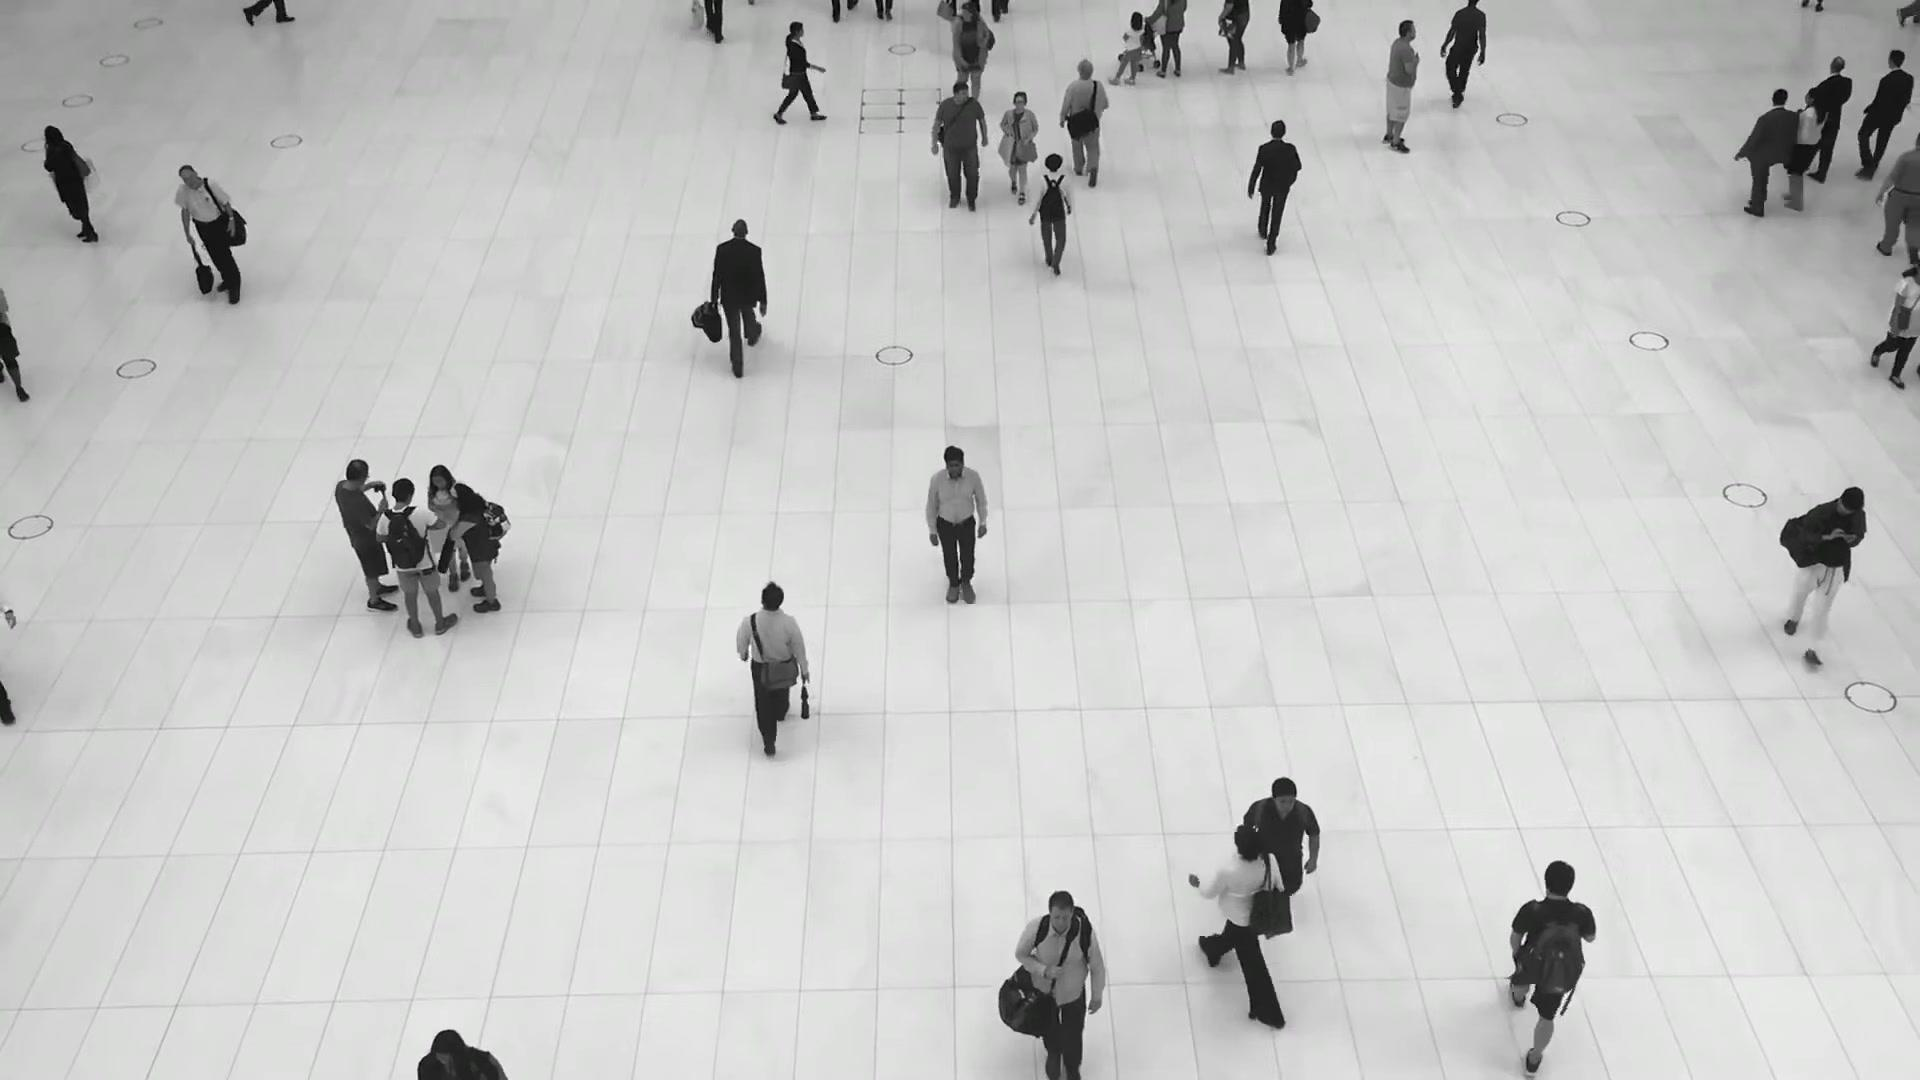person: (1506, 856, 1597, 1072), (1014, 890, 1108, 1080), (1189, 822, 1281, 1014), (1782, 486, 1868, 666), (375, 477, 460, 635), (734, 581, 809, 757), (923, 445, 991, 608), (334, 458, 400, 612), (173, 164, 244, 303), (1242, 777, 1322, 896), (710, 216, 768, 376), (1734, 88, 1798, 217), (929, 81, 990, 211), (1853, 49, 1913, 180), (1246, 118, 1303, 254), (41, 123, 99, 244), (449, 482, 501, 614), (1058, 60, 1110, 189), (1780, 87, 1828, 211), (775, 20, 829, 125), (426, 464, 470, 592), (1027, 153, 1071, 278), (1439, 0, 1486, 112), (1382, 19, 1420, 154), (998, 92, 1039, 207), (949, 3, 991, 98), (1110, 10, 1145, 87)
